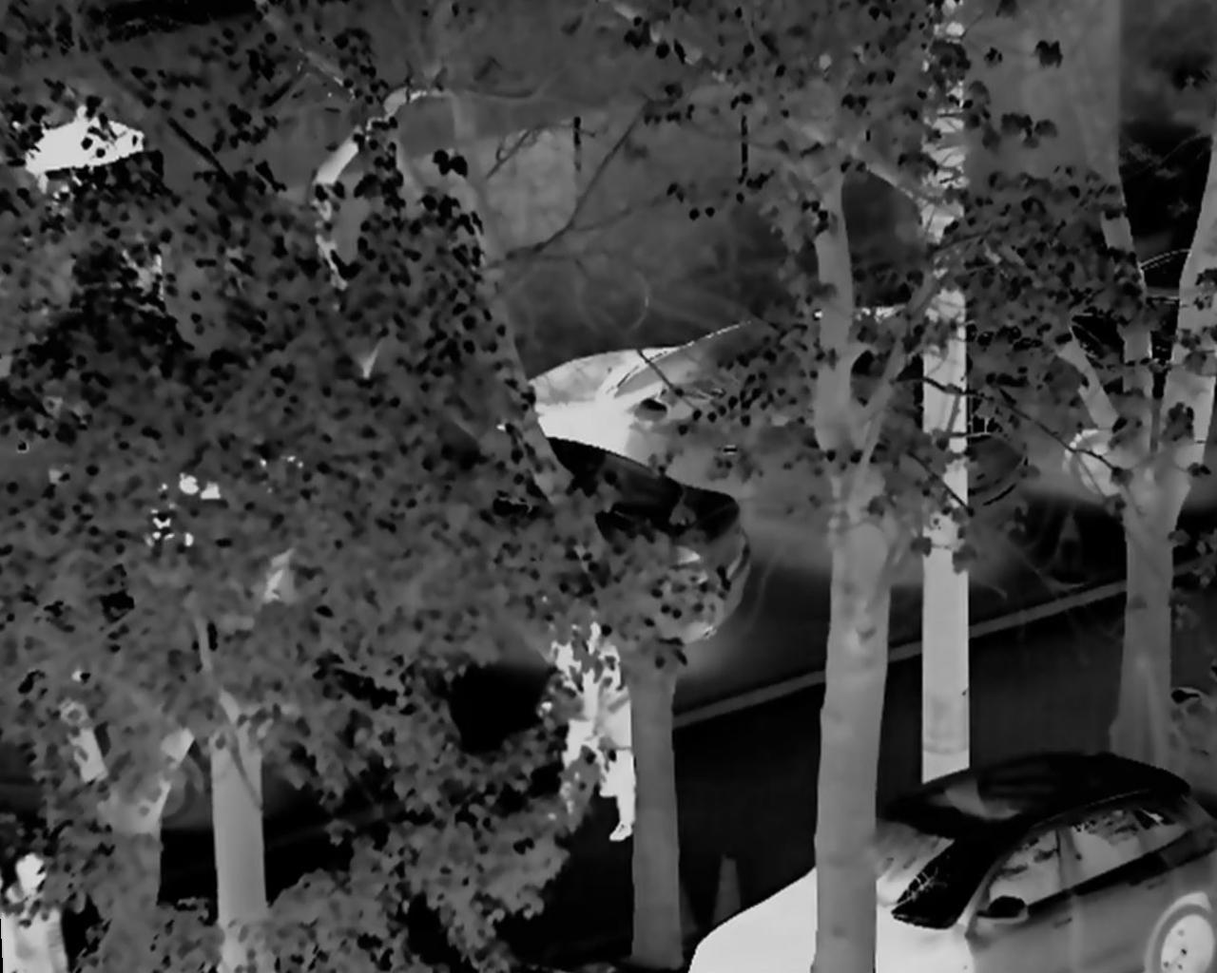person: (537, 614, 610, 827), (596, 644, 658, 850)
